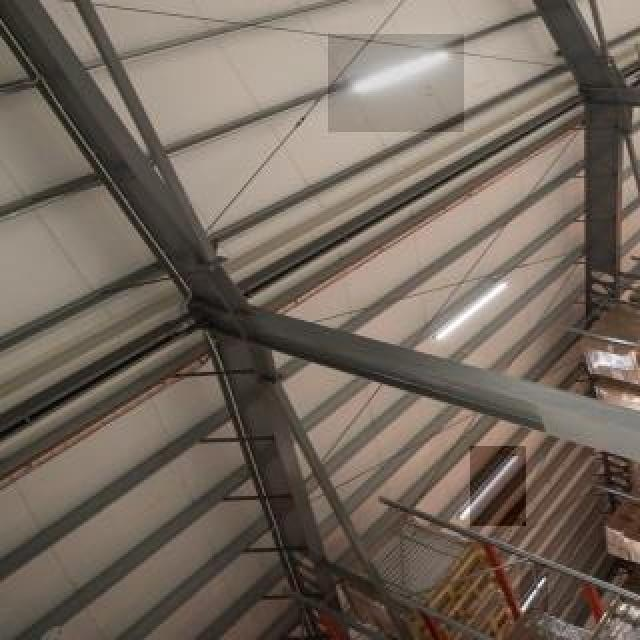fluorescent tube: (331, 49, 460, 109), (421, 267, 515, 349), (474, 448, 523, 531), (632, 114, 640, 210)
